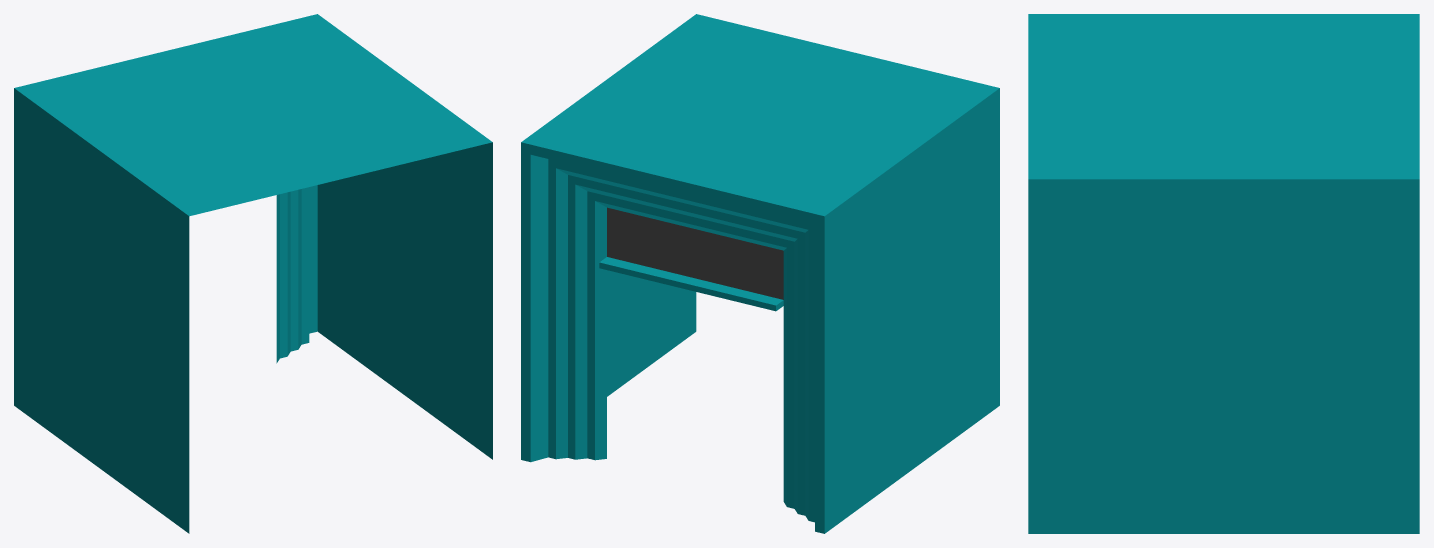
Rendered from Library_entrance_shroud.fbx.
The picture shows the model from 3 angles, left to right: view 1: azimuth 30°, elevation 25°; view 2: azimuth 150°, elevation 25°; view 3: azimuth 270°, elevation 25°; orthographic projection. The views are drawn at different scales.
Visible parts, largest first — view 1: pCube42; view 2: pCube42; view 3: pCube42.
Boxes of the visible parts, bbox=[...] form: pCube42: bbox=[14, 14, 492, 533]; pCube42: bbox=[521, 14, 999, 533]; pCube42: bbox=[1028, 14, 1419, 533].
Size of the model in its own units: 400 by 400 by 400.
